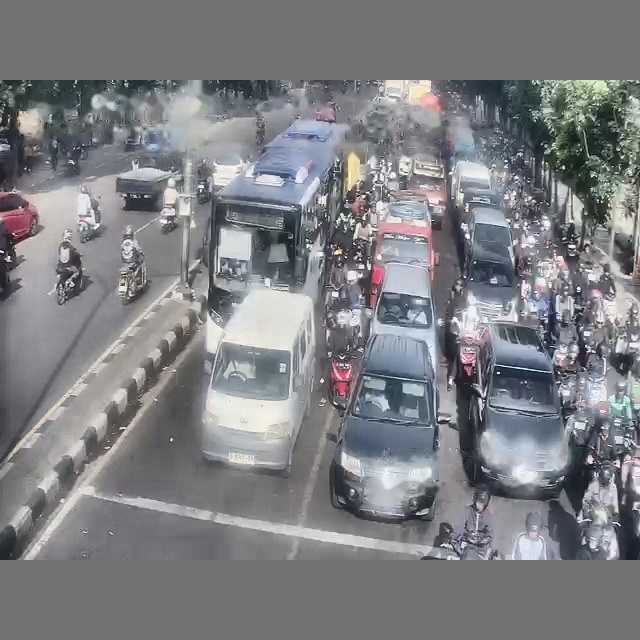Bis: (206, 143, 341, 362)
Mobil: (329, 335, 439, 519), (469, 322, 569, 496), (370, 200, 439, 306), (370, 263, 436, 360), (464, 242, 518, 321), (461, 207, 515, 270), (0, 192, 39, 240), (459, 189, 502, 232), (212, 150, 245, 188), (315, 104, 337, 123)
Motor: (437, 523, 499, 559), (118, 263, 146, 304), (55, 268, 81, 305), (0, 251, 10, 297), (159, 207, 177, 232), (196, 179, 210, 203), (66, 151, 79, 176)
